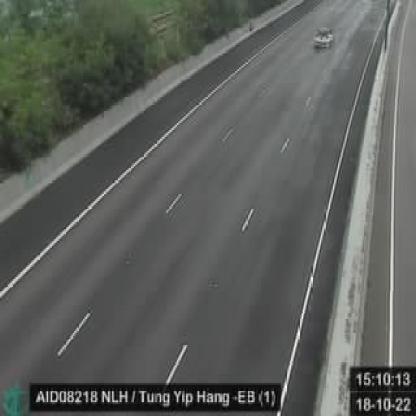Car: (313, 25, 337, 52)
